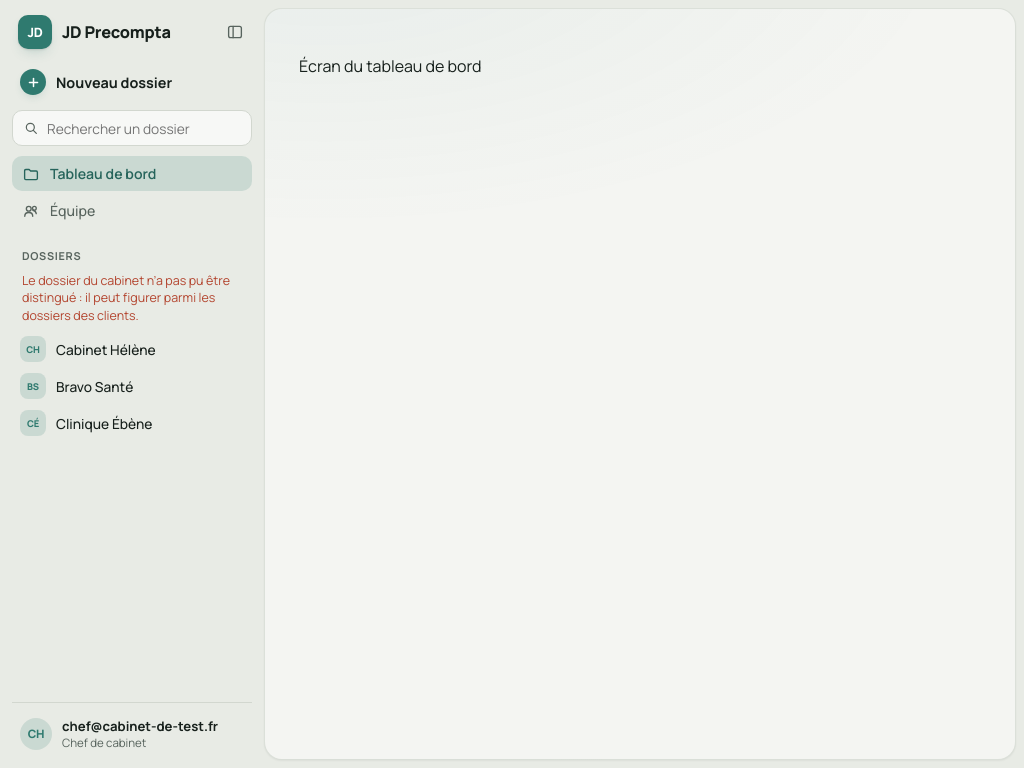
Barre latérale — le menu du compte › se referme quand on choisit l’apparence
What coordinates should you click on to do the following:
click the button with aria-label "Compte de chef@cabinet-de-test.fr"
I would click on:
 (132, 734)
Its box is [12,711,252,756].
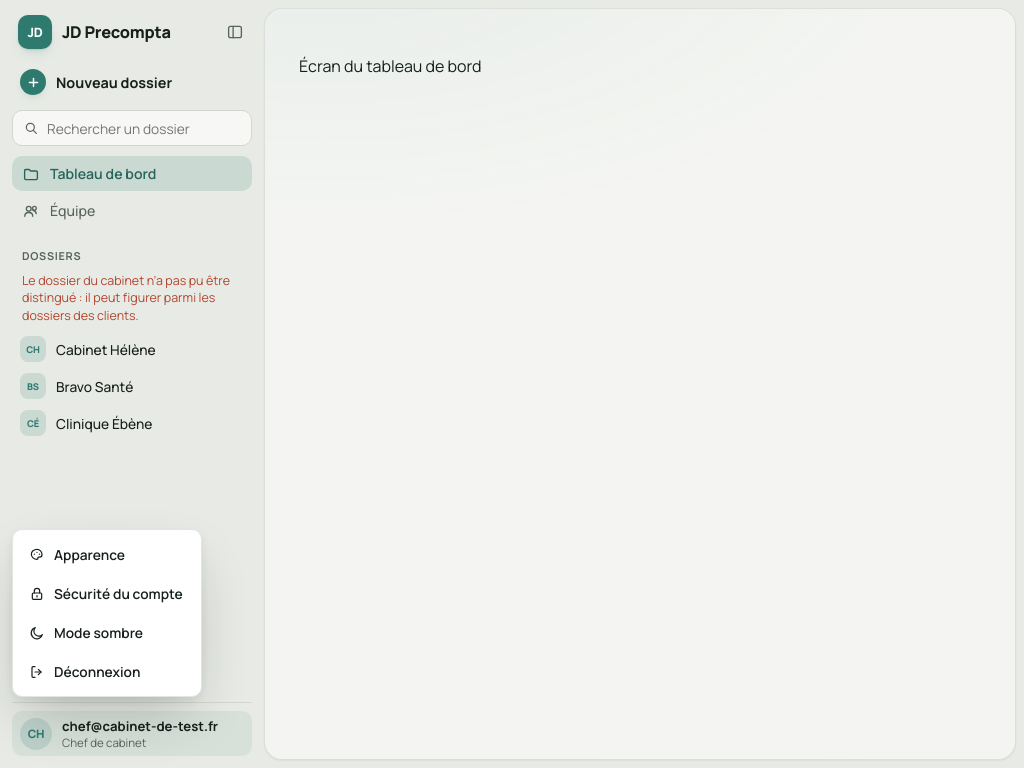
What coordinates should you click on to do the following:
click the link "Apparence"
I would click on:
 (77, 554)
Its box is [29,545,125,564].
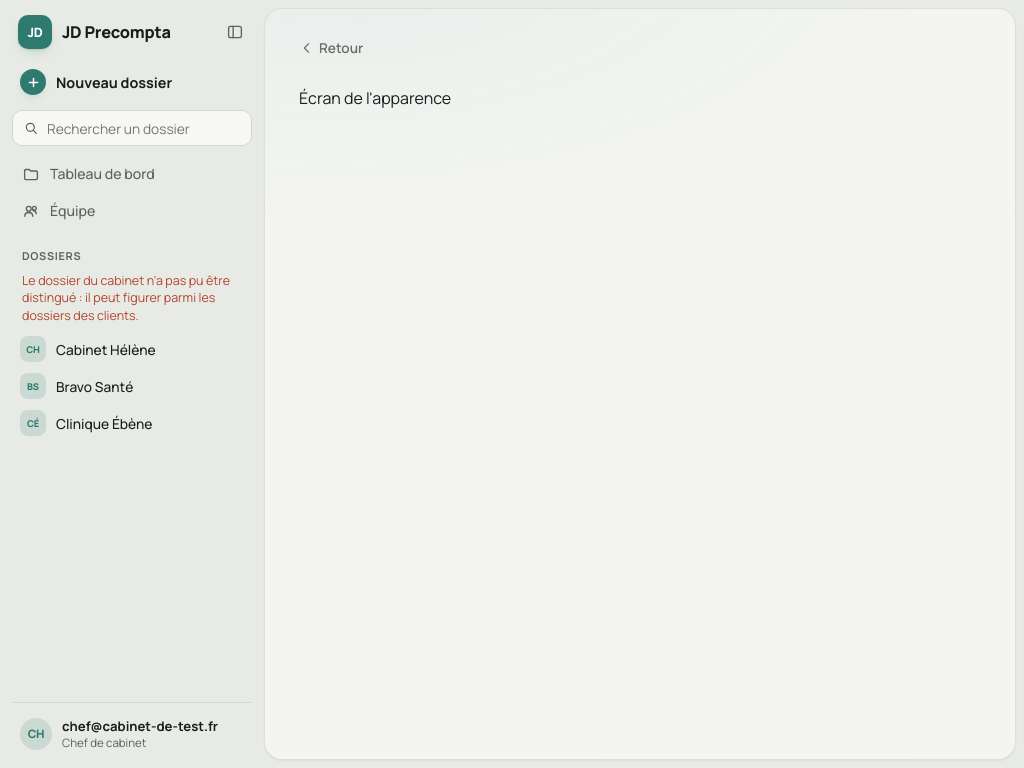
expect the text "Écran de l'apparence" is shown: met, box [299,87,451,109]
expect the button "Déconnexion" is gone: met
